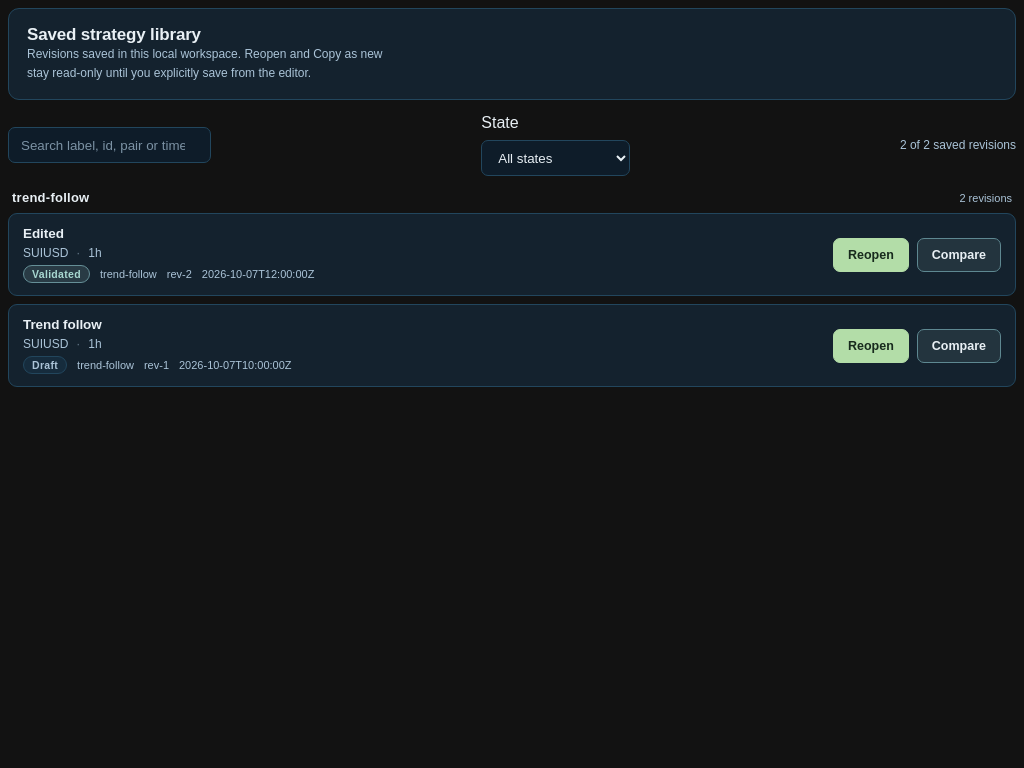
Test case: SavedStrategyLibrary — compare mount › mounts the compare surface inside the library and keeps Reopen
The width and height of the screenshot is (1024, 768).
expect the number of buttons "Reopen" is 2: met, box [833,238,909,272]; [833,329,909,363]
Click the button with test id "library-row-compare" in the row of "Edited" at (959,255), box [917,238,1001,272]
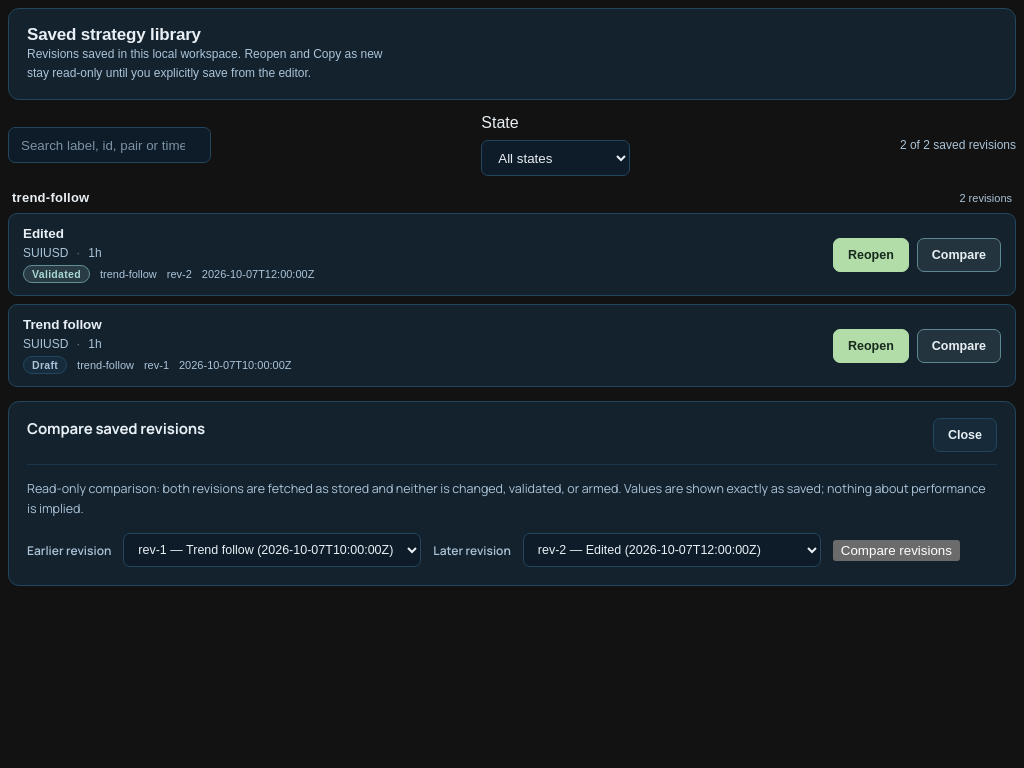
expect the number of buttons "Reopen" is 2: met, box [833,238,909,272]; [833,329,909,363]
expect the element with test id "revision-compare" is shown: met, box [8,401,1016,586]
